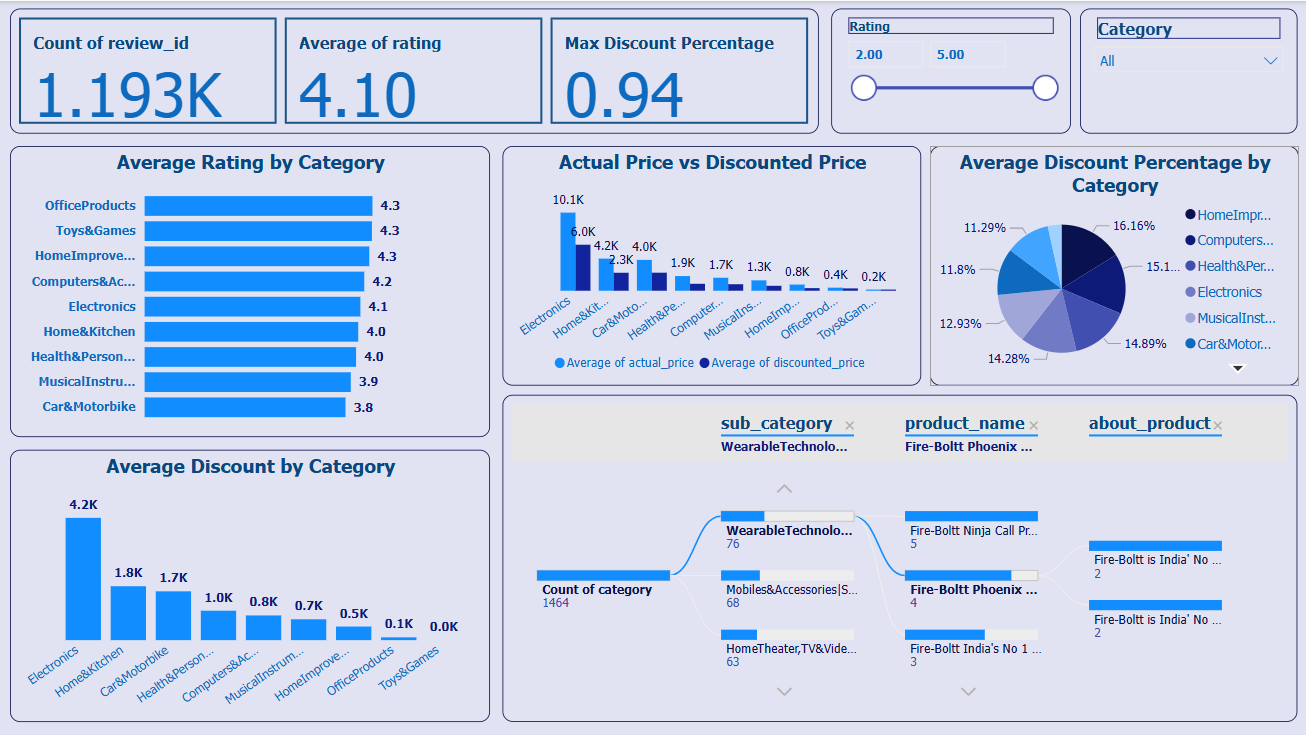

Layout of this report page (visuals, bound fields, positions):
{"tool":"powerbi","page":{"name":"Category-wise","canvas":[1280,720],"ordinal":0},"visuals":[{"type":"cardVisual","fields":{"Data":["Count(amazon.review_id)","Avg(amazon.rating)","Max(amazon.discount_percentage)"]},"box":[9.8,7.3,791.2,122.3],"z":0},{"type":"barChart","title":"Maximum Rating by Category","fields":{"Category":["amazon.category"],"Y":["Max(amazon.rating)"]},"box":[9.8,141.8,469.6,282.5],"z":1000},{"type":"slicer","fields":{"Values":["amazon.rating"]},"box":[813.2,7.3,234.8,122.3],"z":2000},{"type":"slicer","fields":{"Values":["amazon.category"]},"box":[1056.5,7.3,212.8,122.3],"z":3000},{"type":"clusteredColumnChart","title":"Actual Price vs Discounted Price","fields":{"Category":["amazon.category"],"Y":["Avg(amazon.actual_price)","Avg(amazon.discounted_price)"]},"box":[491.6,141.8,409.6,234.8],"z":4000},{"type":"decompositionTreeVisual","fields":{"Analyze":["CountNonNull(amazon.category)"],"ExplainBy":["amazon.sub_category","amazon.product_name","amazon.about_product"]},"box":[491.6,385.2,777.7,320.4],"z":5000},{"type":"columnChart","title":"Average Discount Difference  by Category","fields":{"Category":["amazon.category"],"Y":["Avg(amazon.Discount_amount)"]},"box":[9.8,439,469.6,266.6],"z":6000},{"type":"pieChart","title":"Average Discount Percentage by Category","fields":{"Category":["amazon.category"],"Y":["Avg(amazon.discount_percentage)"]},"box":[909.8,141.8,360.7,234.8],"z":7000}]}

Visuals, with their boxes in screenshot pixels (x1, y1, x2, y2), scaled from the page's 1280x720 canvas onto the 1306x735 screenshot:
cardVisual - Count(amazon.review_id) x Avg(amazon.rating): 10,7,817,132
"Maximum Rating by Category" barChart: 10,145,489,433
slicer - amazon.rating: 830,7,1069,132
slicer - amazon.category: 1078,7,1295,132
"Actual Price vs Discounted Price" clusteredColumnChart: 502,145,920,384
decompositionTreeVisual - CountNonNull(amazon.category) x amazon.sub_category: 502,393,1295,720
"Average Discount Difference  by Category" columnChart: 10,448,489,720
"Average Discount Percentage by Category" pieChart: 928,145,1296,384
